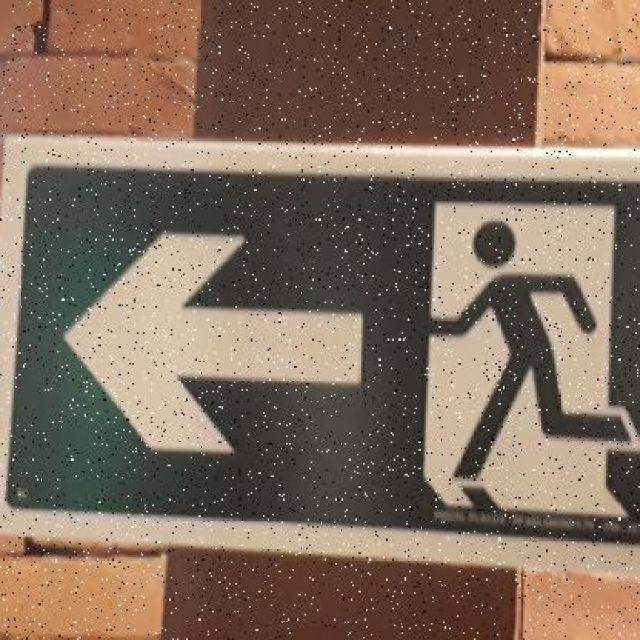exit_sign: (0, 101, 638, 598)
